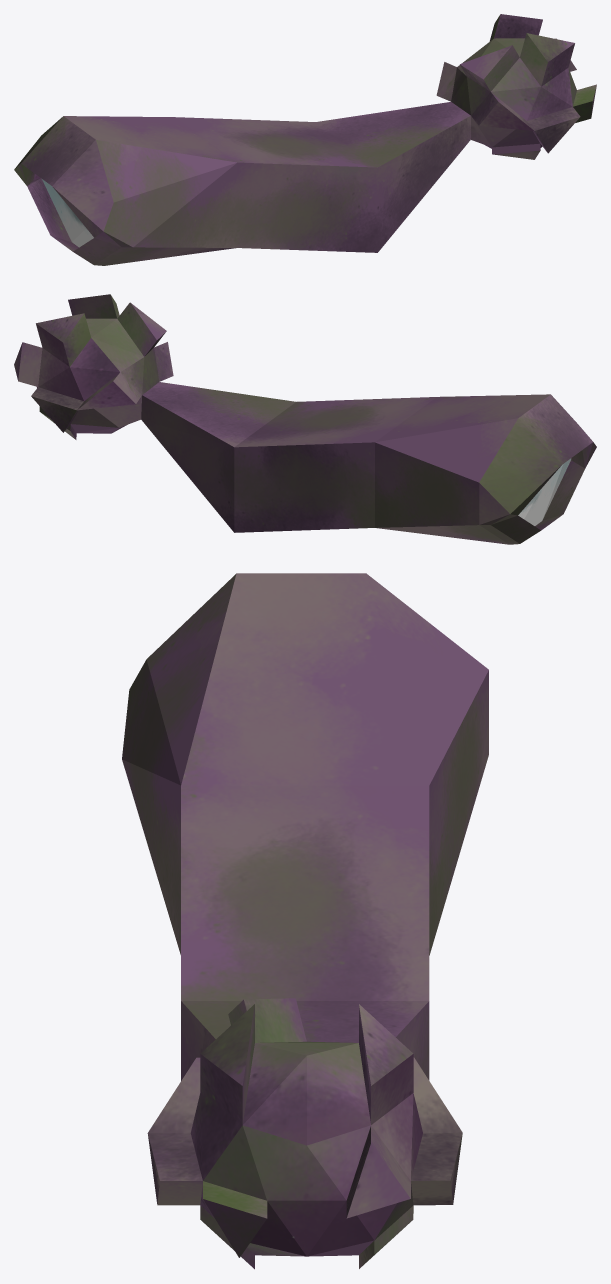
File: gemGuyOne.glb
The picture shows the model from 3 angles, top to bottom: view 1: azimuth 30°, elevation 25°; view 2: azimuth 150°, elevation 25°; view 3: azimuth 270°, elevation 25°; orthographic projection. The views are drawn at different scales.
Visible parts, largest first — view 1: Cube; view 2: Cube; view 3: Cube.
Boxes of the visible parts, bbox=[...] form: Cube: bbox=[14, 14, 596, 265]; Cube: bbox=[14, 294, 596, 544]; Cube: bbox=[122, 573, 488, 1269].
Size of the model in its own units: 4.86 by 1.42 by 1.4.
1 material, 1 textured.
